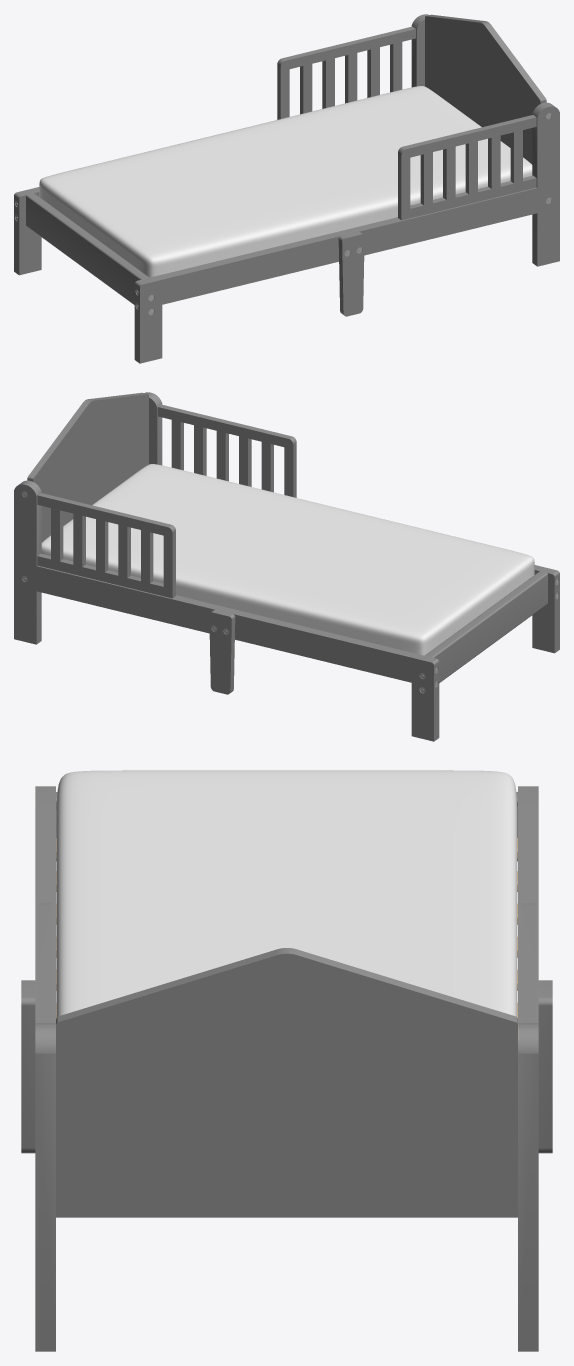
The model's file is greytoddlerbed.gltf.
3 renders of one model, top to bottom at view 1: azimuth 30°, elevation 25°; view 2: azimuth 150°, elevation 25°; view 3: azimuth 270°, elevation 25°, orthographic. The views are drawn at different scales.
Parts seen in each view (by area): view 1: Mesh; view 2: Mesh; view 3: Mesh.
Boxes of the visible parts, x1,y1,x2,y2 form: Mesh: [14, 14, 559, 363]; Mesh: [14, 392, 559, 741]; Mesh: [21, 770, 552, 1351].
Bounding box in the file's own units: 1.4 × 0.6204 × 0.7665.
1 material, 1 textured.
